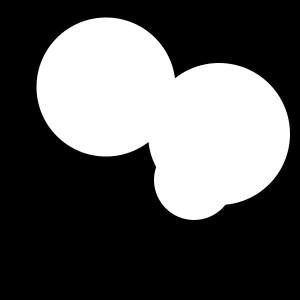circle: (234, 88, 257, 111)
rectangle: (148, 63, 290, 205), (36, 17, 176, 156), (154, 140, 234, 220)
